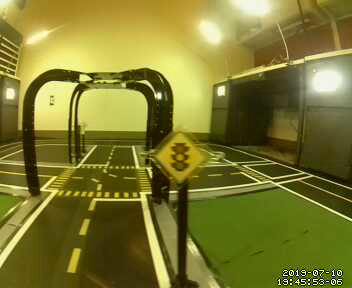Traffic light sign: (155, 129, 207, 187)
